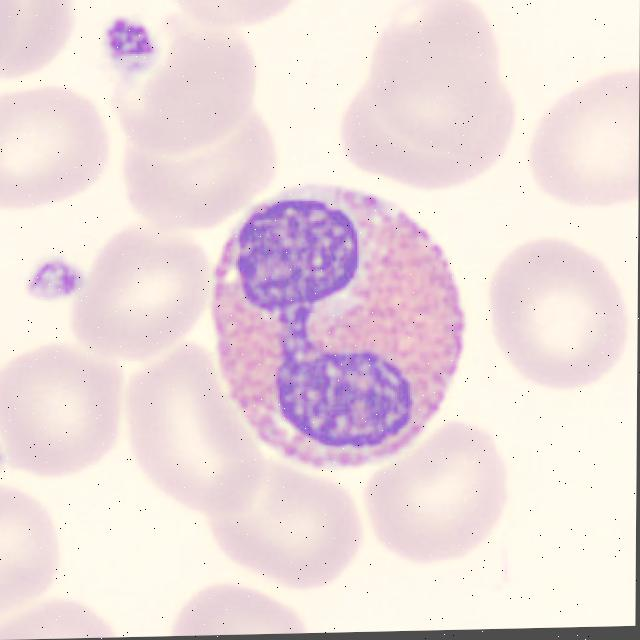eosinophil: (205, 177, 468, 482)
platelets: (105, 16, 162, 96), (26, 253, 89, 314)
rbc: (481, 233, 635, 407), (124, 340, 274, 518), (195, 456, 376, 594), (368, 424, 522, 586), (335, 75, 540, 180), (74, 222, 214, 367), (364, 0, 497, 147), (527, 68, 639, 222), (114, 124, 287, 222), (144, 10, 261, 153), (0, 344, 125, 474), (0, 77, 111, 215), (163, 572, 319, 636), (0, 477, 63, 616), (0, 587, 130, 640), (0, 0, 82, 77), (158, 0, 320, 25)
